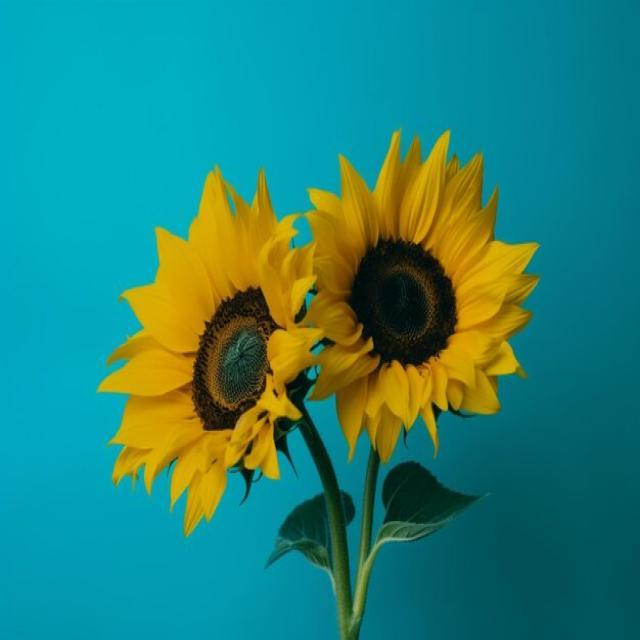sunflower: (96, 162, 323, 536), (302, 124, 540, 464)
